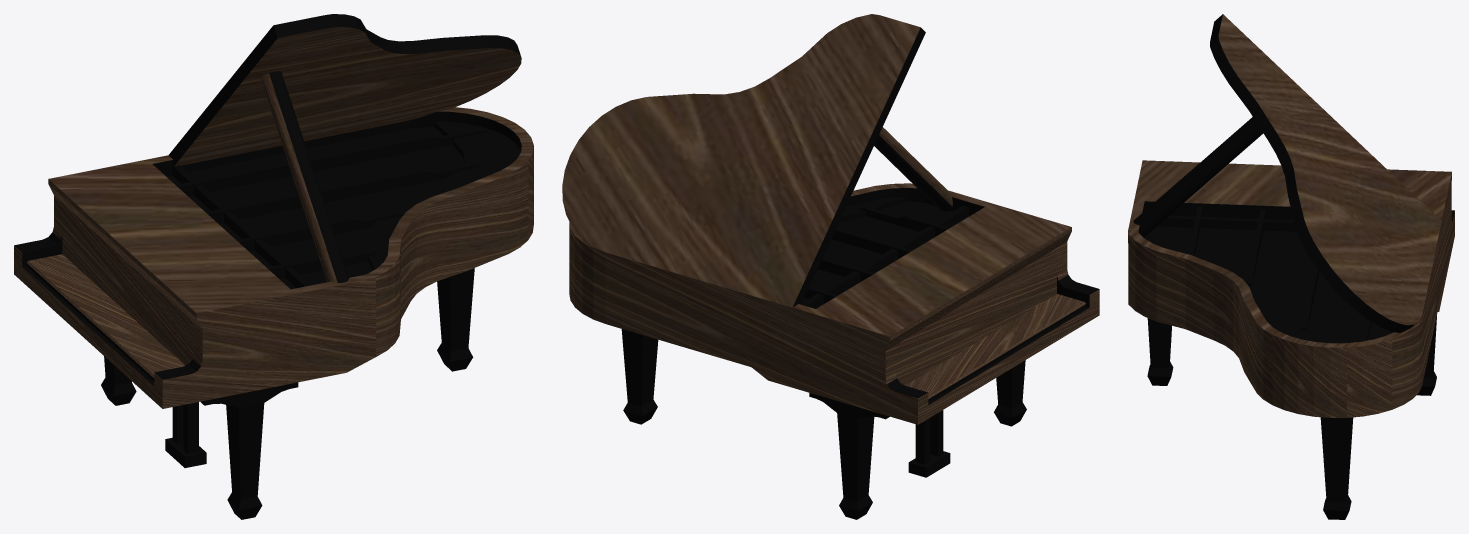
Rendered from Grand.glb.
3 views of the same model, side by side, from view 1: azimuth 30°, elevation 25°; view 2: azimuth 150°, elevation 25°; view 3: azimuth 270°, elevation 25° (orthographic). The views are drawn at different scales.
Size of the model in its own units: 0.4116 by 0.3764 by 0.281.
Materials: 1 (1 with a texture image).
